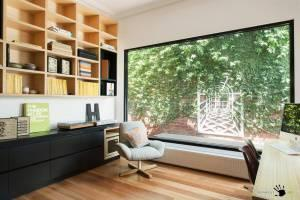window: (122, 22, 295, 155)
